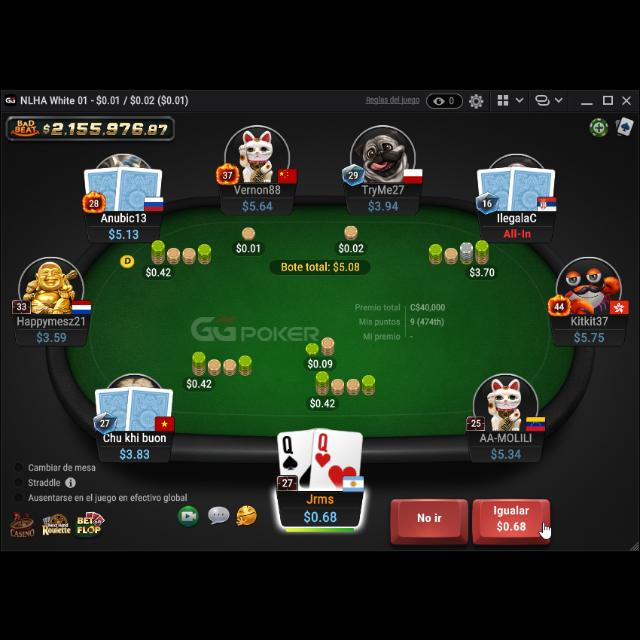Qh: (314, 429, 332, 467)
Qs: (280, 431, 300, 469)
all_in_symbol: (502, 223, 532, 237)
bet_text: (185, 374, 213, 388), (468, 262, 496, 276), (309, 392, 336, 406), (235, 238, 261, 252), (146, 262, 172, 276), (338, 240, 364, 252), (307, 354, 333, 366)
card_back: (124, 380, 174, 430), (114, 160, 164, 210), (507, 162, 557, 210), (475, 162, 519, 210), (82, 162, 126, 210), (94, 382, 134, 428)
dealer: (118, 251, 136, 267)
hero_active: (388, 496, 552, 542)
pot_text: (276, 258, 360, 272)
stack_text: (302, 503, 338, 522), (490, 442, 522, 458), (108, 224, 140, 238), (35, 326, 67, 340), (119, 443, 151, 457), (574, 326, 606, 340), (242, 195, 274, 209), (367, 195, 399, 209)
